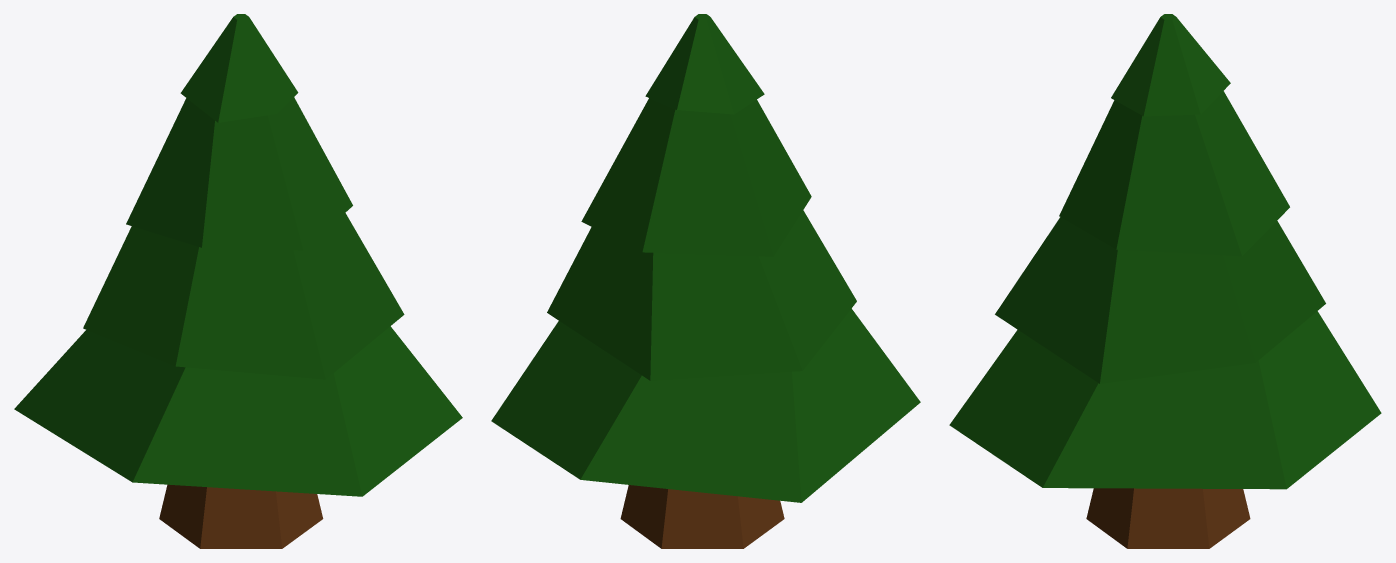
The model's file is Tree.fbx.
3 views of the same model, side by side, from view 1: azimuth 30°, elevation 25°; view 2: azimuth 150°, elevation 25°; view 3: azimuth 270°, elevation 25° (orthographic).
Parts seen in each view (by area): view 1: Cylinder; view 2: Cylinder; view 3: Cylinder.
Part boxes in pixels (box(x1,y1,x2,y2)): Cylinder: box(14, 14, 462, 548); Cylinder: box(491, 14, 920, 548); Cylinder: box(949, 14, 1381, 548).
Size of the model in its own units: 337 by 502 by 392.
